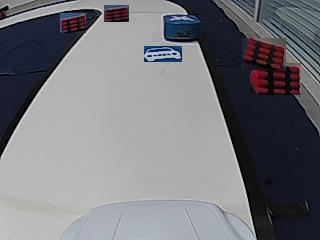prop: (163, 15, 201, 42)
